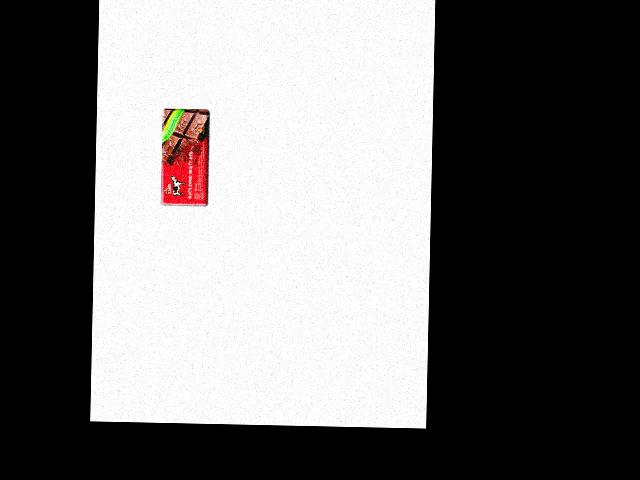chocolate: (159, 108, 214, 209)
